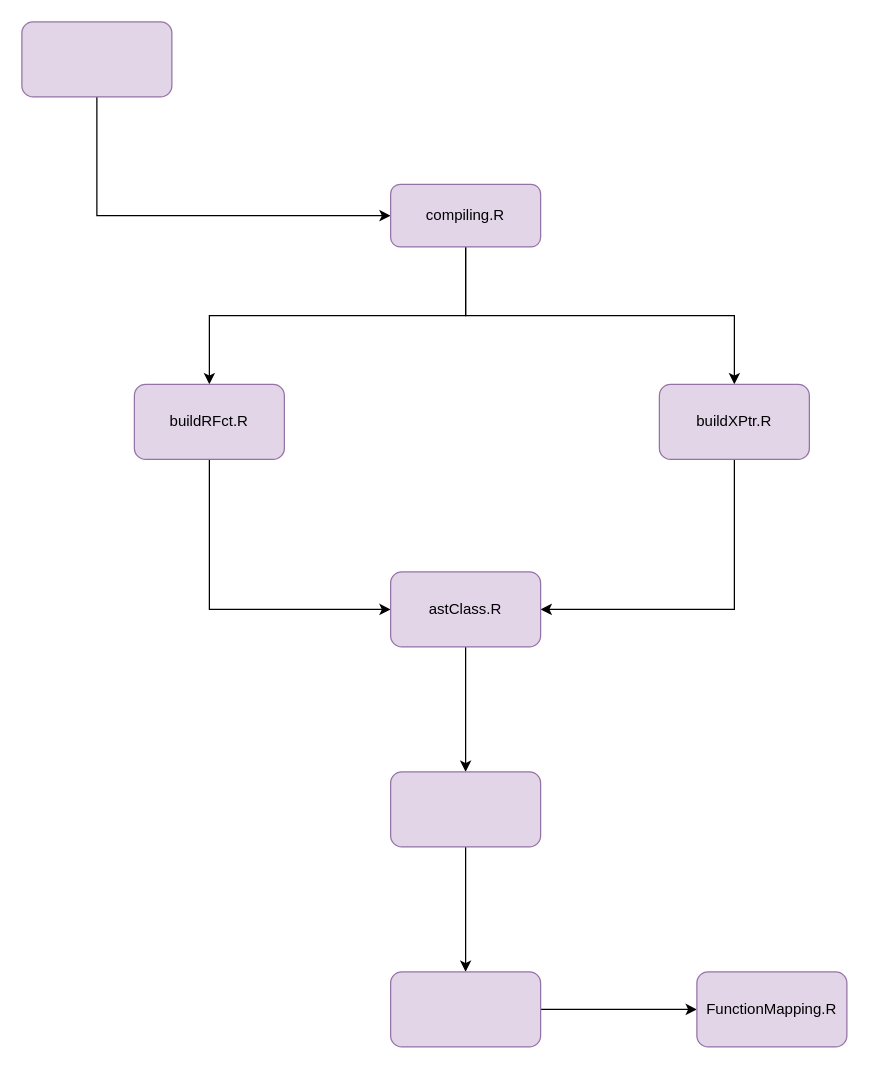
Image size: 869x1069. Some labels were removed from this diagram. Here are the shapes that lost their labels. From the top down, the centre of each, then its label:
At pixel 96 59: "translate.R".
At pixel 465 809: "codelinesclass.R".
At pixel 465 1009: "node_classes.R".
